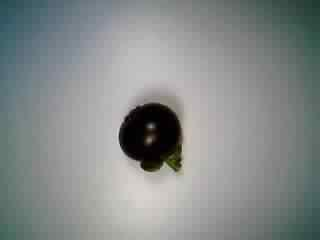mangosteen: (114, 91, 191, 178)
